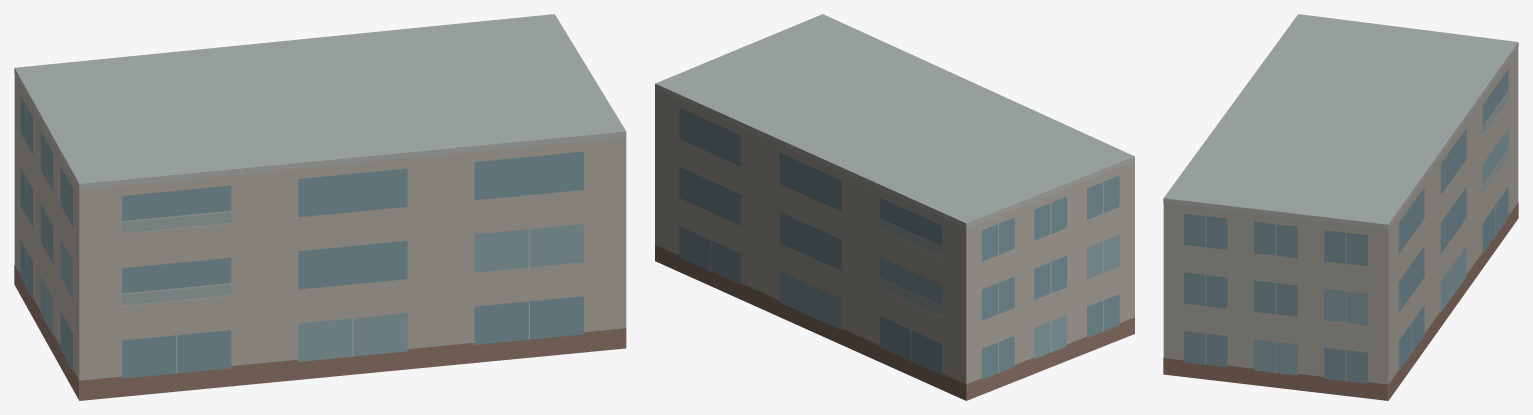
The model's file is survey-upis-32965292.glb.
The picture shows the model from 3 angles, left to right: view 1: azimuth 30°, elevation 25°; view 2: azimuth 150°, elevation 25°; view 3: azimuth 270°, elevation 25°; orthographic projection. The views are drawn at different scales.
Visible parts, largest first — view 1: survey-upis-32965292.tmp; view 2: survey-upis-32965292.tmp; view 3: survey-upis-32965292.tmp.
Boxes of the visible parts, x1,y1,x2,y2 form: survey-upis-32965292.tmp: (14, 14, 626, 400); survey-upis-32965292.tmp: (655, 14, 1134, 400); survey-upis-32965292.tmp: (1163, 14, 1518, 400).
Size of the model in its own units: 23.45 by 9.15 by 16.71.
